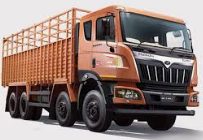truck: (1, 1, 201, 136)
